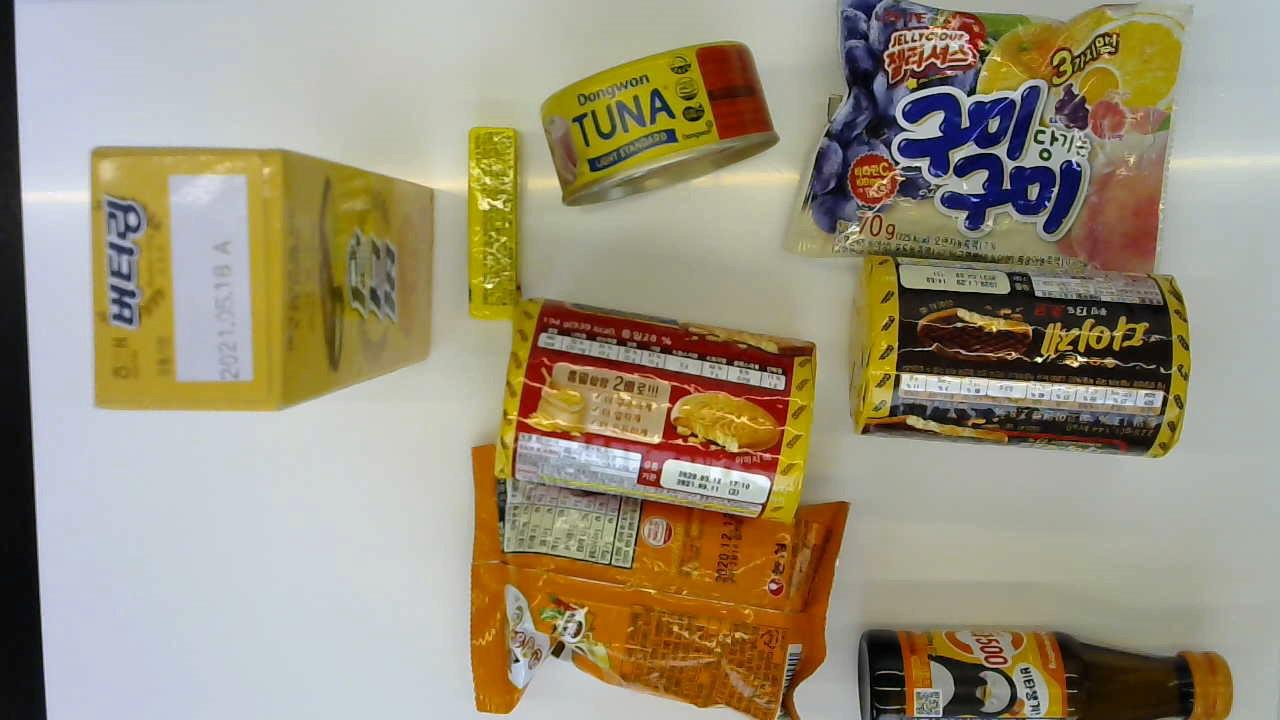buttering: (89, 146, 430, 412)
diget_choco: (844, 255, 1193, 460)
diget_ori: (493, 296, 817, 520)
gumi_gumi: (782, 0, 1186, 275)
jjolbyung_noodle: (470, 446, 849, 715)
juicyfresh: (468, 127, 517, 319)
tuna: (535, 39, 778, 204)
vita500: (861, 627, 1233, 720)
